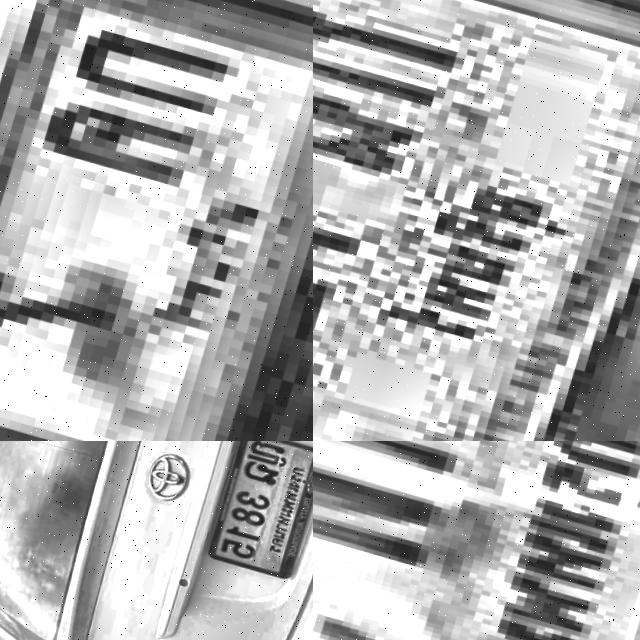license-plate: (313, 0, 640, 441), (0, 0, 313, 441), (313, 441, 640, 640), (207, 441, 313, 577)
